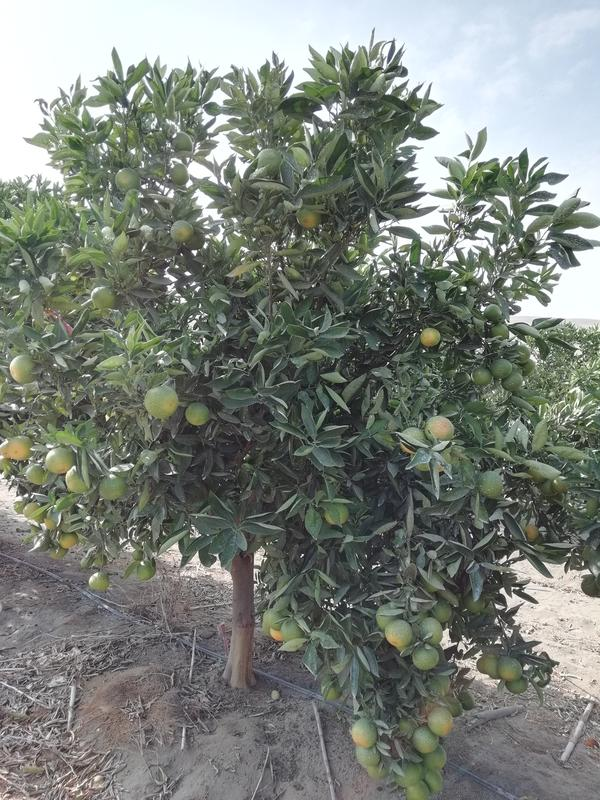mandarina verde: (144, 385, 179, 419), (350, 718, 378, 749), (427, 707, 454, 738), (45, 447, 75, 474), (385, 619, 412, 648), (412, 645, 440, 671), (412, 725, 437, 753), (10, 354, 34, 383), (496, 656, 522, 682), (479, 472, 503, 500), (426, 417, 455, 440), (397, 762, 422, 788), (100, 475, 126, 500), (64, 466, 88, 493), (421, 617, 443, 646), (185, 402, 211, 426), (7, 436, 32, 460), (114, 167, 141, 189), (355, 748, 381, 769), (424, 748, 447, 771), (170, 220, 194, 242), (92, 286, 117, 307), (88, 572, 108, 593), (421, 327, 441, 347), (281, 619, 300, 640), (503, 374, 524, 393), (170, 163, 189, 184), (136, 561, 156, 580), (492, 360, 512, 379), (471, 369, 493, 386), (262, 608, 279, 629), (428, 771, 443, 794), (505, 679, 528, 694), (407, 784, 429, 799), (485, 303, 502, 322), (56, 534, 78, 548)
